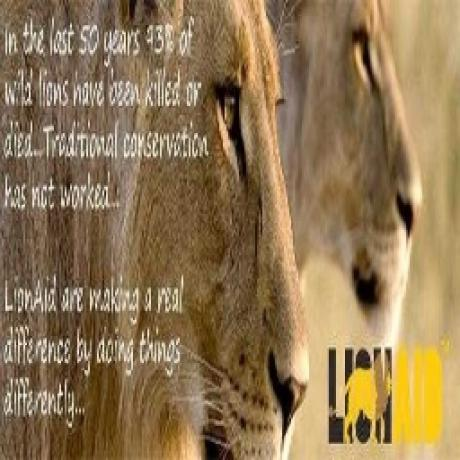Lion: (0, 0, 311, 460), (276, 0, 431, 358)
